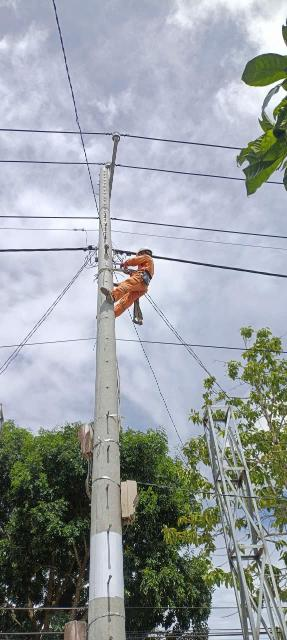gloves: (118, 260, 132, 268)
harness: (121, 267, 158, 280)
helmet: (133, 245, 158, 258)
shoes: (98, 284, 120, 309)
